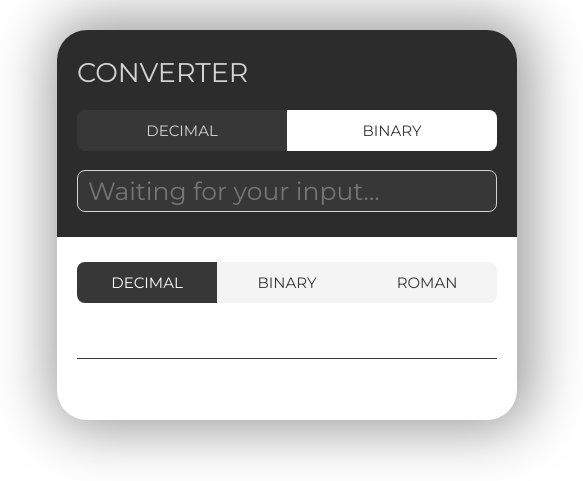
Test: Convert: › From binary to roman
The width and height of the screenshot is (583, 481).
Click the button "binary" below "Converter": (392, 130) [287,110,497,151]
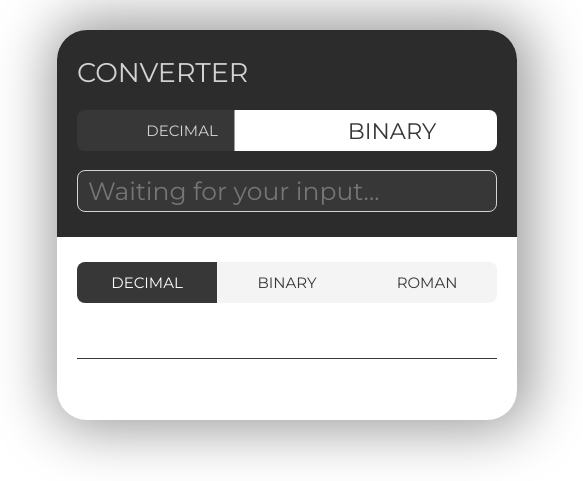
In the number field with placeholder "Waiting for your input...": (287, 191) [77,170,497,212], type "10"
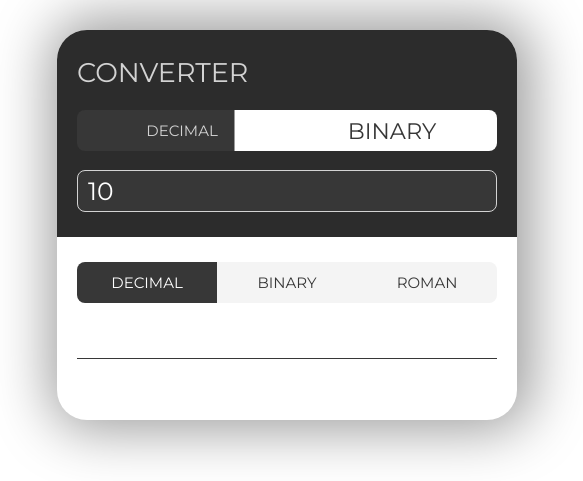
Click the button "roman": (427, 282) [357,262,497,303]
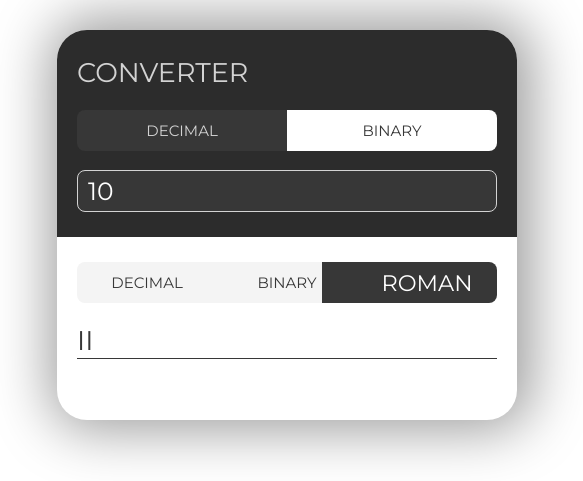
Result: the text "II" is shown at [77,323,497,359]
